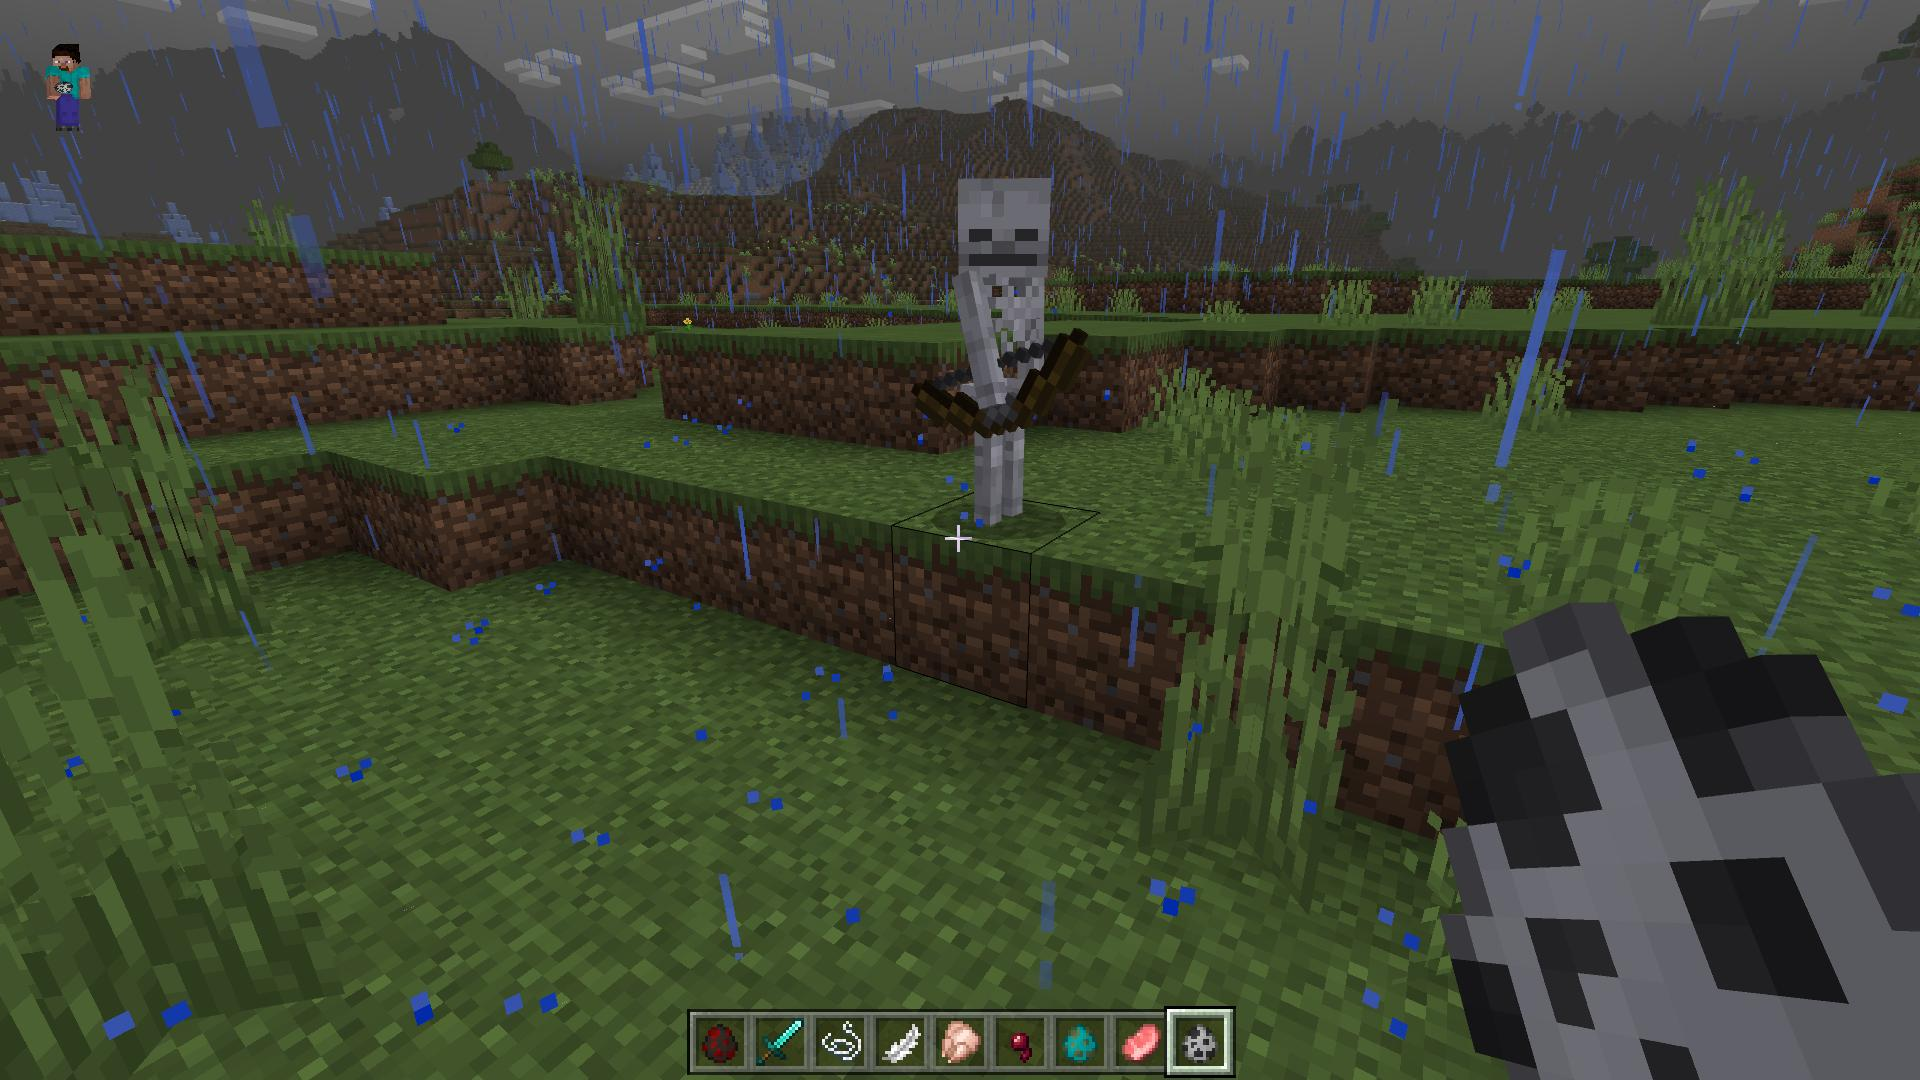skeleton: (915, 170, 1085, 533)
